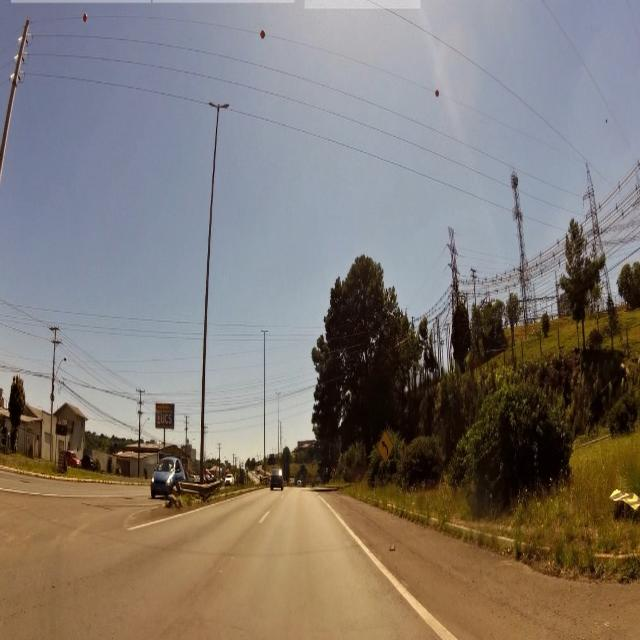A-2a: (379, 430, 393, 464)
